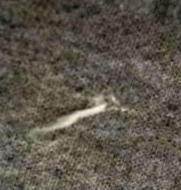snag: (32, 100, 111, 141)
